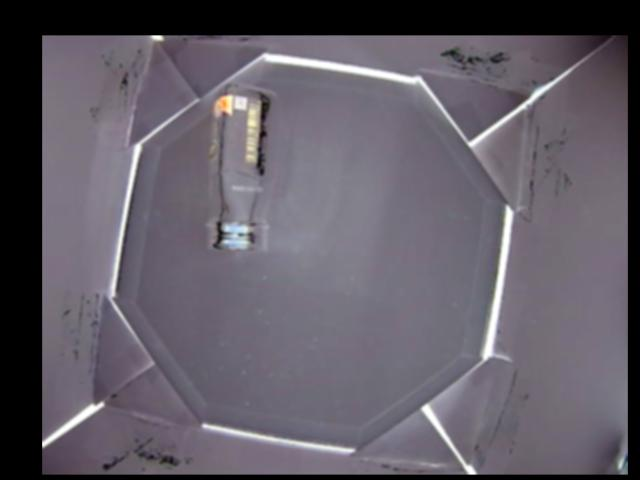Bottle: (205, 85, 276, 254)
